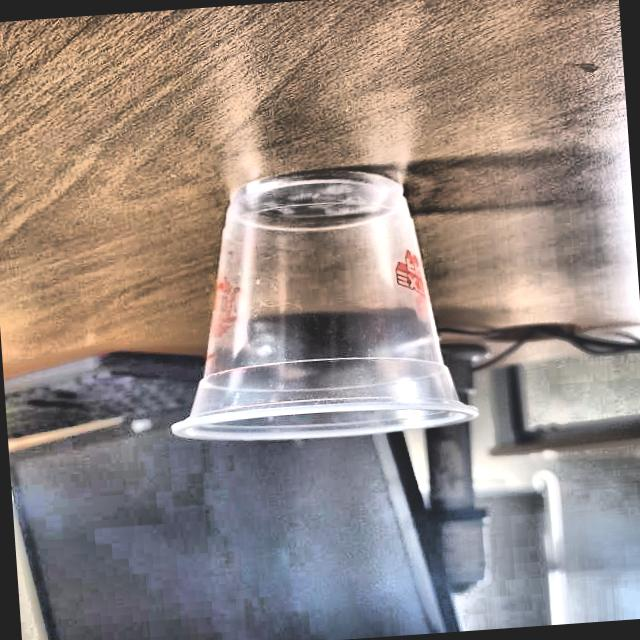plastic cup: (155, 162, 483, 452)
